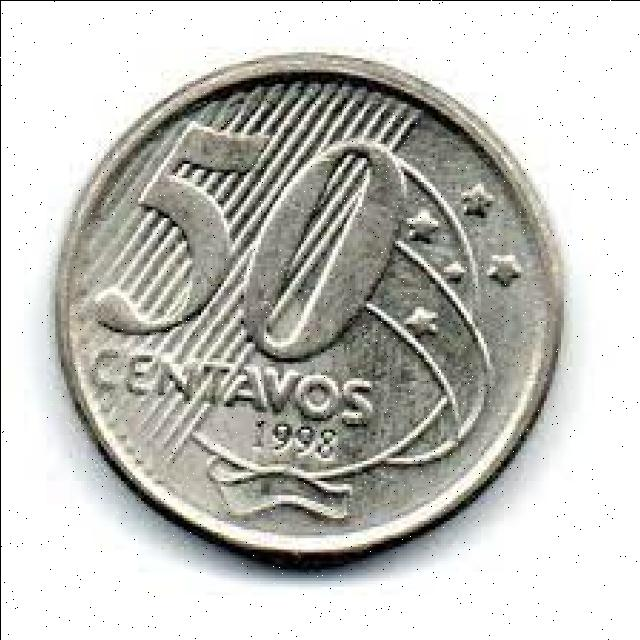50 cent: (61, 49, 566, 566)
